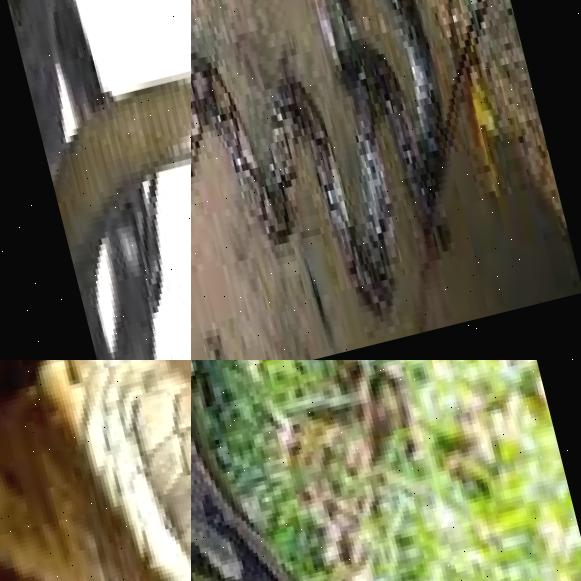1: (0, 360, 191, 581)
3: (191, 0, 514, 360)
5: (0, 0, 191, 360)
snake: (191, 360, 581, 581)
